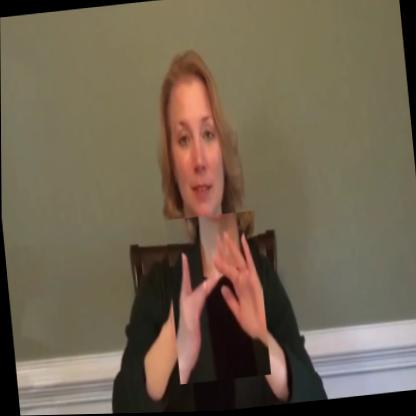Internet: (164, 211, 270, 385)
